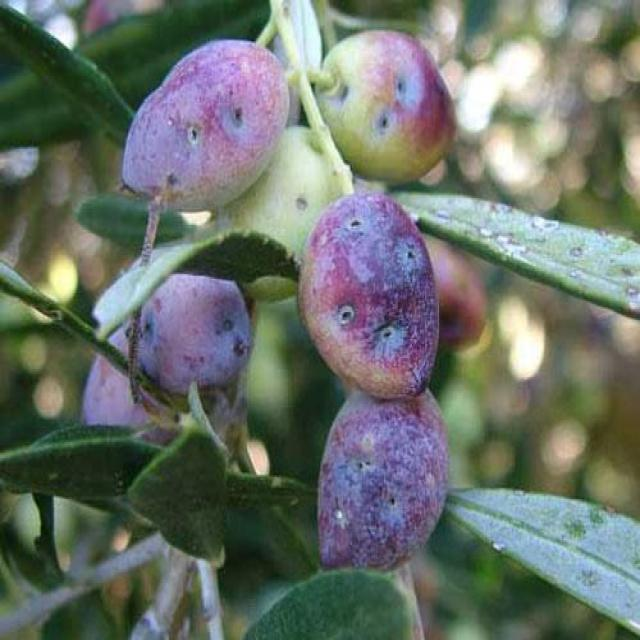Anthracnose: (300, 192, 438, 400), (123, 43, 289, 209), (317, 390, 448, 570), (316, 30, 454, 179)
